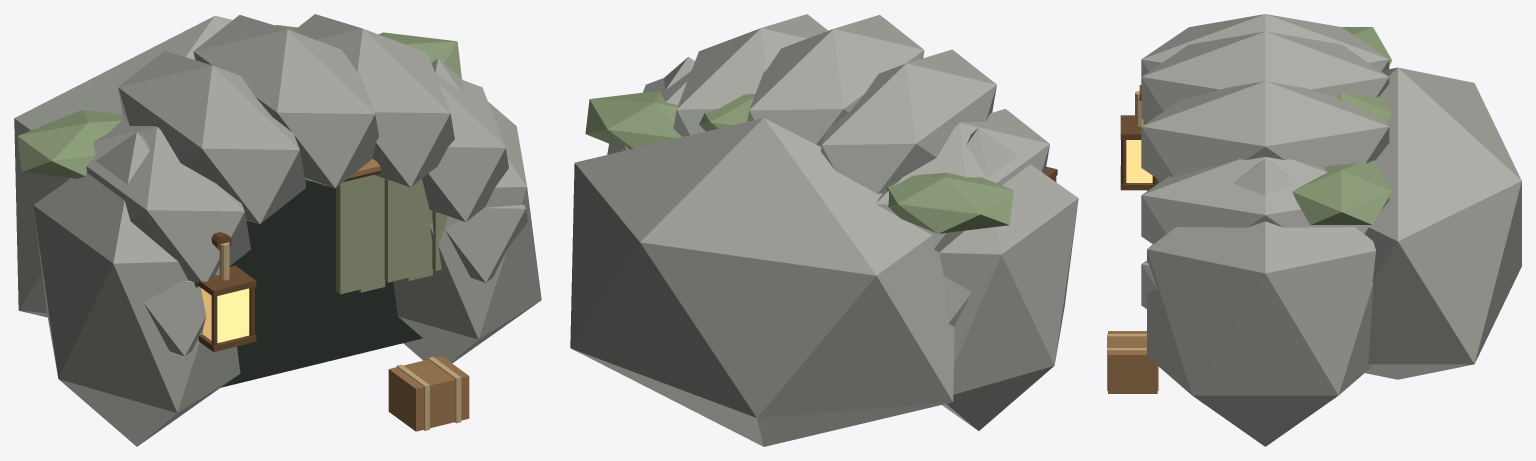
File: field-scout.glb
The picture shows the model from 3 angles, left to right: view 1: azimuth 30°, elevation 25°; view 2: azimuth 150°, elevation 25°; view 3: azimuth 270°, elevation 25°; orthographic projection. The views are drawn at different scales.
Parts seen in each view (by area): view 1: cave_jamb, cave_dark_interior, cave_arch.004, cave_arch.003, cave_jamb.001, cave_arch.005, cave_arch.002, cave_back, cave_arch.001, moss_cover, scout_supply_crate, cave_arch (+9 smaller); view 2: cave_back, cave_jamb, cave_arch.004, cave_arch.003, cave_arch.002, moss_cover, cave_arch.005, moss_cover.002, moss_cover.001, cave_arch.006, cave_arch.001, cave_jamb.001; view 3: cave_jamb.001, cave_back, cave_arch.002, cave_arch.003, cave_arch.001, moss_cover.002, cave_arch.004, scout_supply_crate, moss_cover.001, lantern_light, moss_cover, lantern_frame.001 (+1 smaller).
Part boxes in pixels (box(x1,y1,x2,y2)): cave_jamb: box(33, 132, 240, 446); cave_dark_interior: box(221, 179, 422, 387); cave_arch.004: box(118, 51, 306, 224); cave_arch.003: box(193, 15, 378, 188); cave_jamb.001: box(393, 58, 541, 363); cave_arch.005: box(68, 112, 250, 283); cave_arch.002: box(295, 14, 454, 187); cave_back: box(14, 15, 232, 317); cave_arch.001: box(422, 73, 508, 221); moss_cover: box(17, 110, 124, 178); scout_supply_crate: box(388, 356, 469, 431); cave_arch: box(445, 204, 527, 282); cave_back: box(570, 118, 954, 446); cave_jamb: box(939, 127, 1078, 430); cave_arch.004: box(820, 49, 996, 193); cave_arch.003: box(747, 15, 924, 146); cave_arch.002: box(673, 14, 827, 136); moss_cover: box(886, 172, 1013, 233); cave_arch.005: box(876, 108, 1049, 252); moss_cover.002: box(585, 91, 681, 149); moss_cover.001: box(699, 93, 755, 131); cave_arch.006: box(944, 276, 972, 326); cave_arch.001: box(622, 71, 691, 151); cave_jamb.001: box(607, 57, 694, 154); cave_jamb.001: box(1147, 159, 1375, 446); cave_back: box(1365, 67, 1521, 379); cave_arch.002: box(1141, 81, 1389, 181); cave_arch.003: box(1141, 31, 1389, 122); cave_arch.001: box(1141, 157, 1389, 243); moss_cover.002: box(1292, 160, 1392, 224); cave_arch.004: box(1141, 14, 1389, 76); scout_supply_crate: box(1108, 331, 1157, 393); moss_cover.001: box(1334, 93, 1391, 123); lantern_light: box(1126, 140, 1152, 182); moss_cover: box(1342, 27, 1392, 65); lantern_frame.001: box(1120, 115, 1146, 139).
Size of the model in its own units: 0.7304 by 0.58 by 0.6261.
